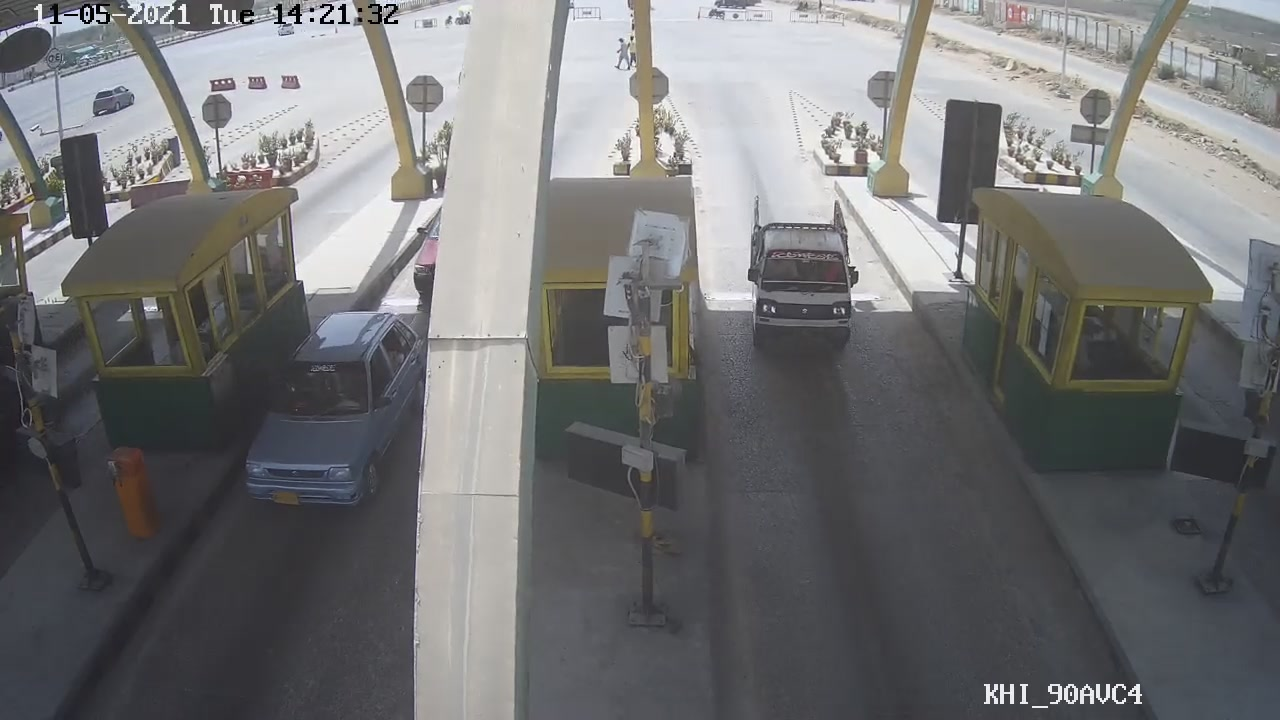F1: (732, 182, 877, 357)
